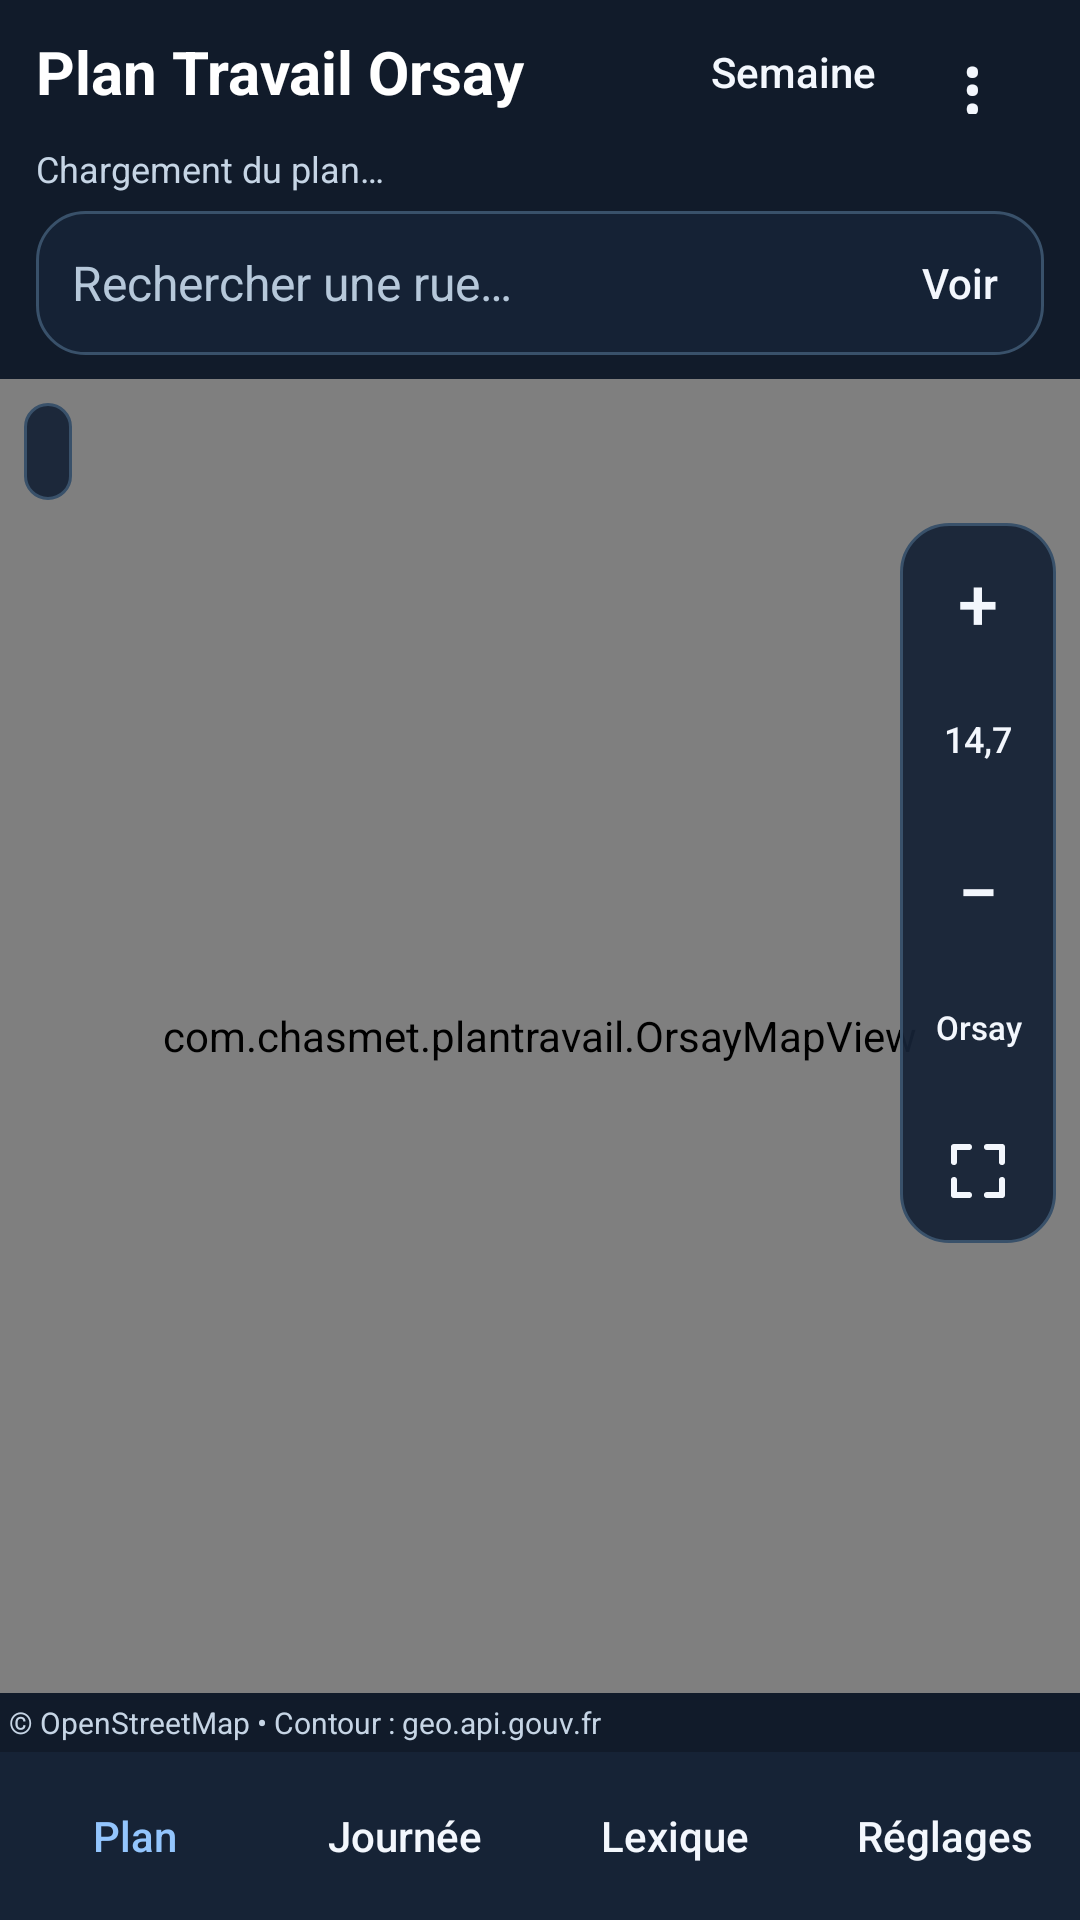

Screen size 1080 x 1920. Icon name, then its center in pixels as [x,y]:
Agrandir le plan: [978,1171]
